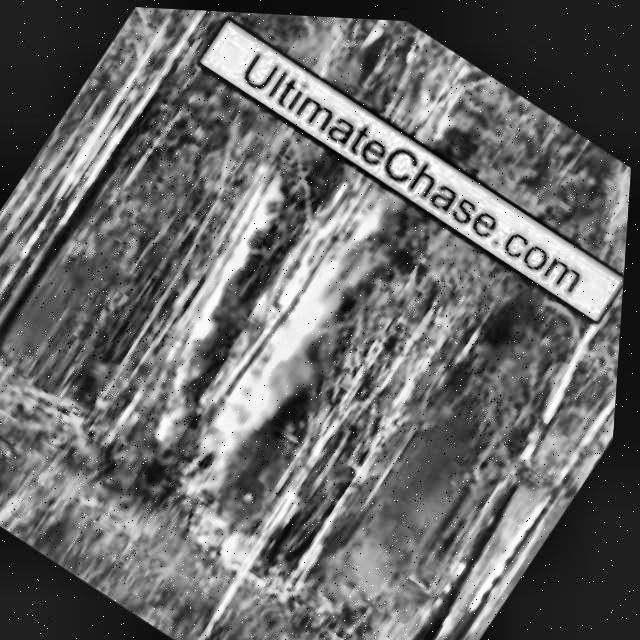Fire: (100, 160, 399, 498), (384, 37, 481, 143), (308, 156, 405, 244), (187, 507, 267, 580)
